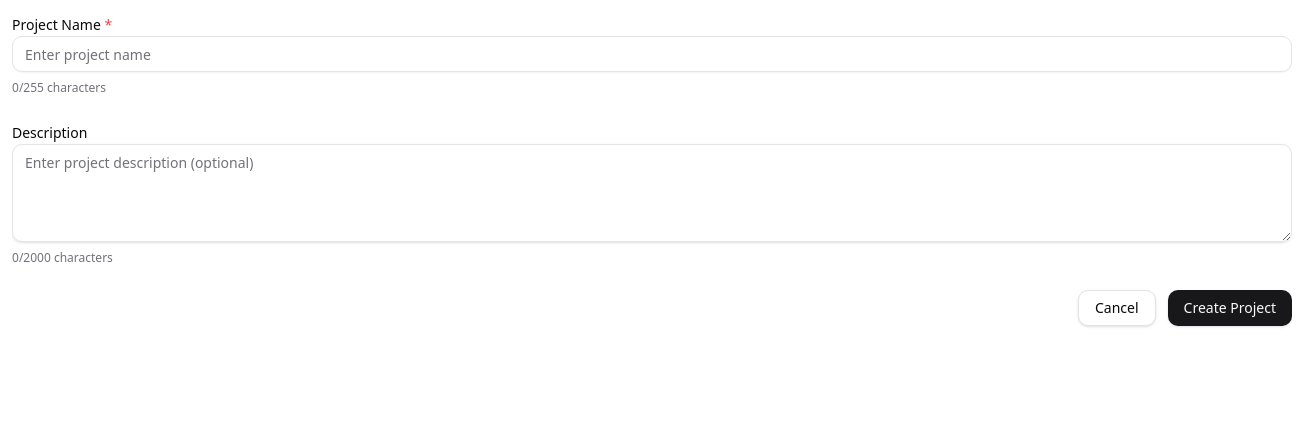
Test case: ProjectForm › shows validation error for empty name
The width and height of the screenshot is (1304, 423).
Click the button "Create Project" at (1230, 308), box 1168,290 -> 1292,326
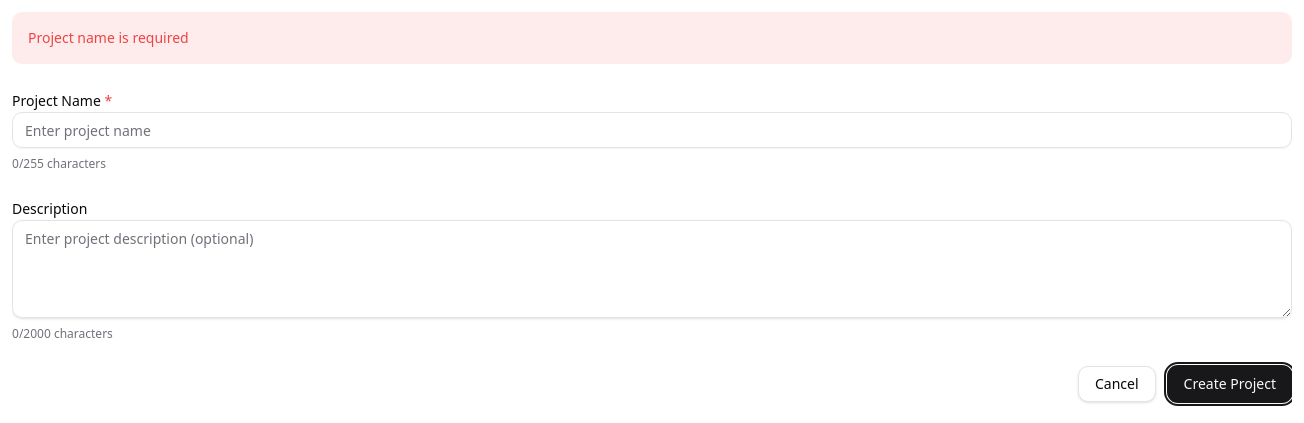
expect the text "Project name is required" is shown: met, box 28,28 -> 189,47
